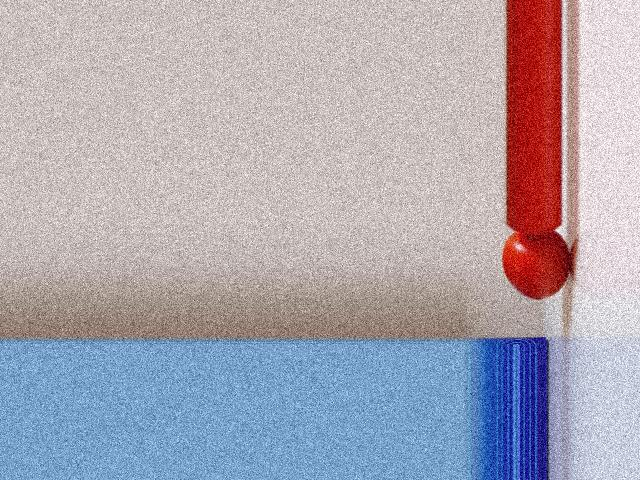tomato: (502, 232, 570, 299)
